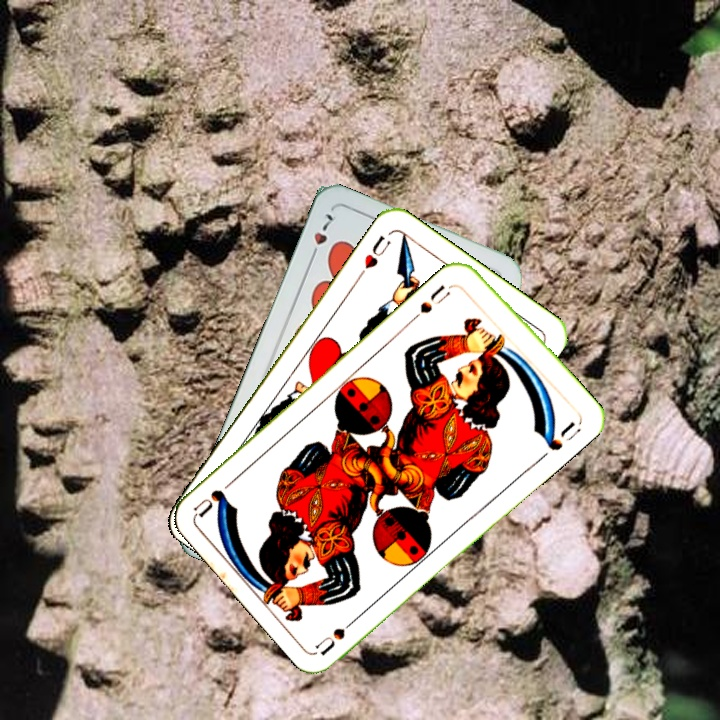H7: (306, 209, 339, 264)
HU: (354, 231, 393, 281)
SU: (312, 610, 364, 657), (416, 279, 461, 316)
